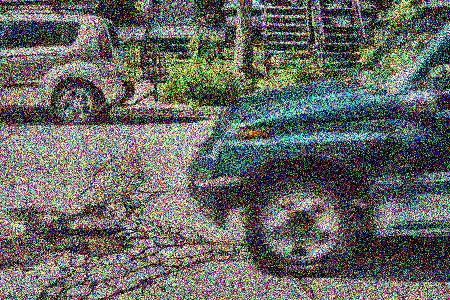pothole: (40, 226, 131, 255)
